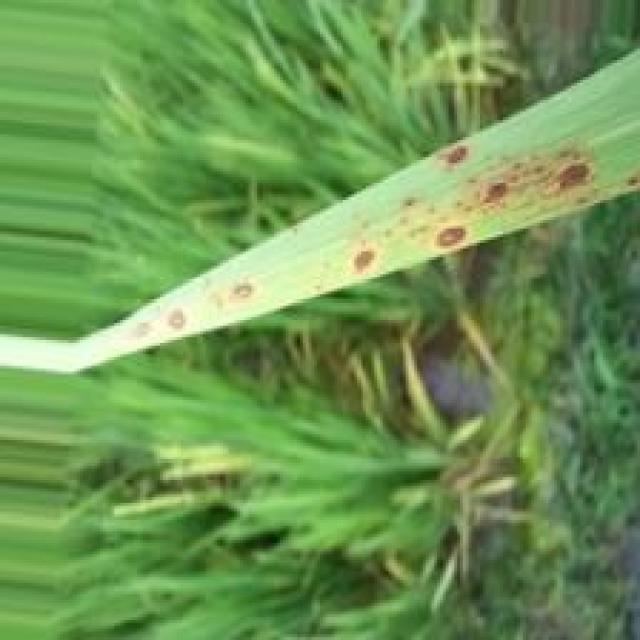Brown_Spot: (542, 156, 598, 202), (475, 177, 516, 211), (432, 225, 474, 253), (440, 140, 477, 169), (350, 244, 380, 276), (226, 278, 261, 303), (167, 306, 190, 333), (398, 195, 426, 211)
